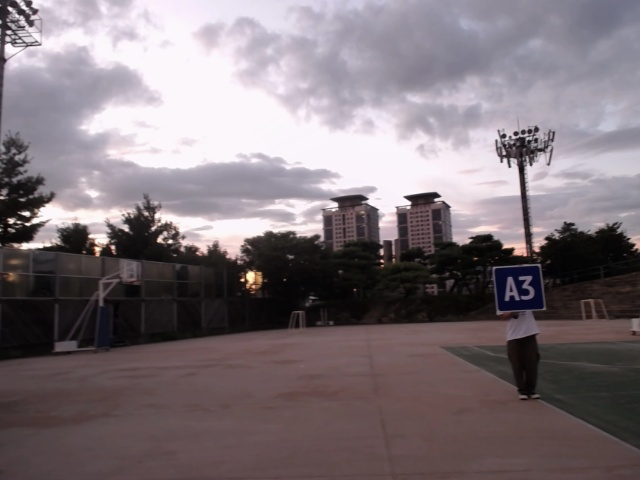delivery_a3: (493, 266, 545, 313)
